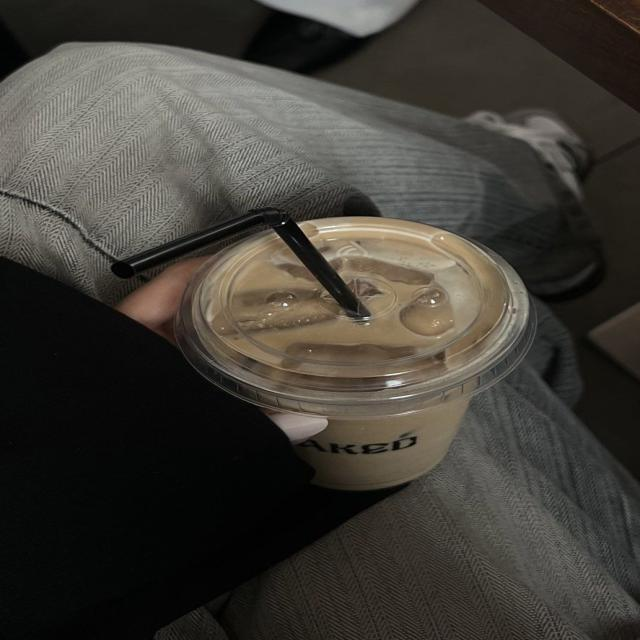plastic cup: (175, 214, 540, 490)
